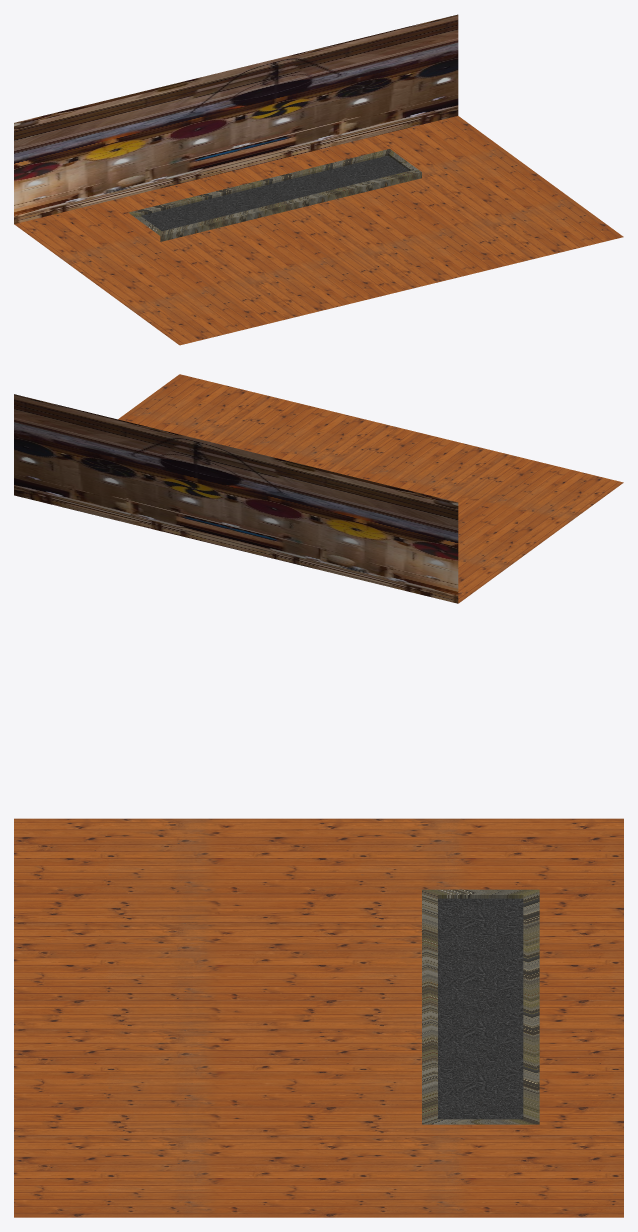
The model's file is Level_Longhouse.fbx.
3 views of the same model, one above another, from view 1: azimuth 30°, elevation 25°; view 2: azimuth 150°, elevation 25°; view 3: azimuth 270°, elevation 25° (orthographic). The views are drawn at different scales.
Parts seen in each view (by area): view 1: Floor, Background, Firepit; view 2: Background, Floor; view 3: Floor, Firepit.
Part boxes in pixels (x1,y1,x2,y2): Floor: [14, 116, 623, 345]; Background: [14, 14, 458, 223]; Firepit: [128, 149, 421, 241]; Background: [14, 394, 458, 603]; Floor: [118, 374, 623, 603]; Floor: [14, 818, 623, 1217]; Firepit: [422, 889, 539, 1124].
Size of the model in its own units: 628 by 137 by 405.
